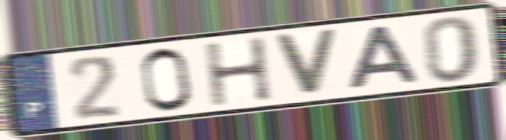0: (420, 14, 481, 85), (138, 45, 195, 114)
2: (67, 53, 123, 123)
A: (346, 23, 424, 93)
H: (201, 34, 276, 109)
V: (270, 28, 341, 98)
